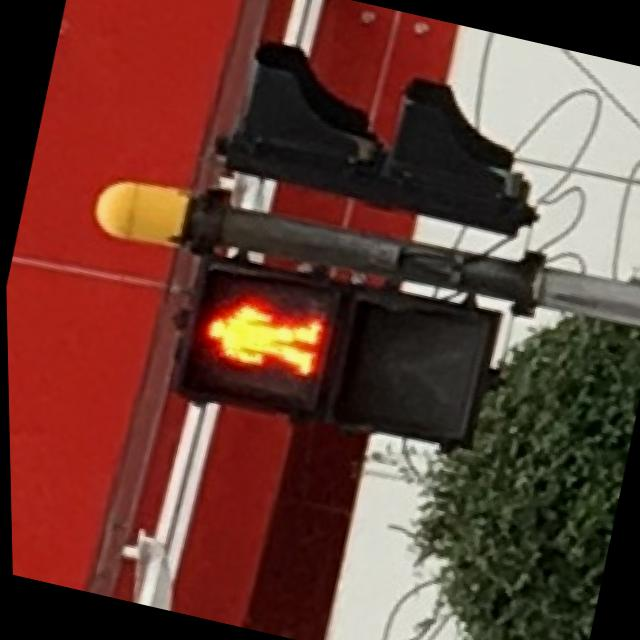red_light: (178, 273, 336, 402)
